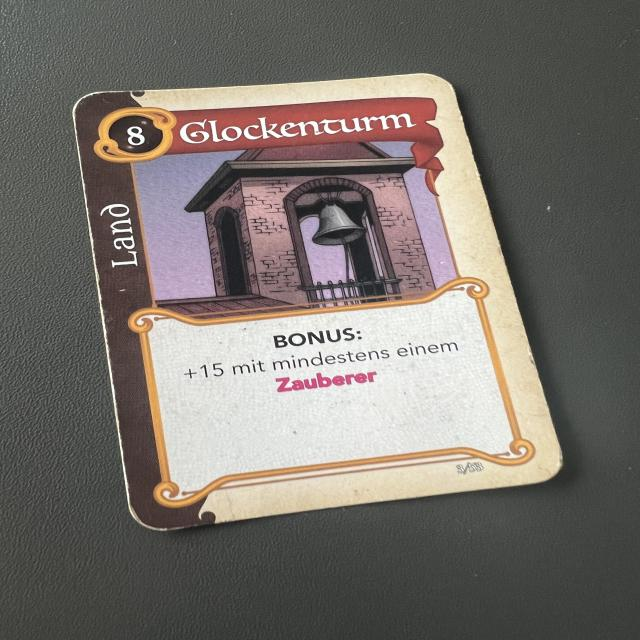Clock Tower: (67, 71, 572, 537)
